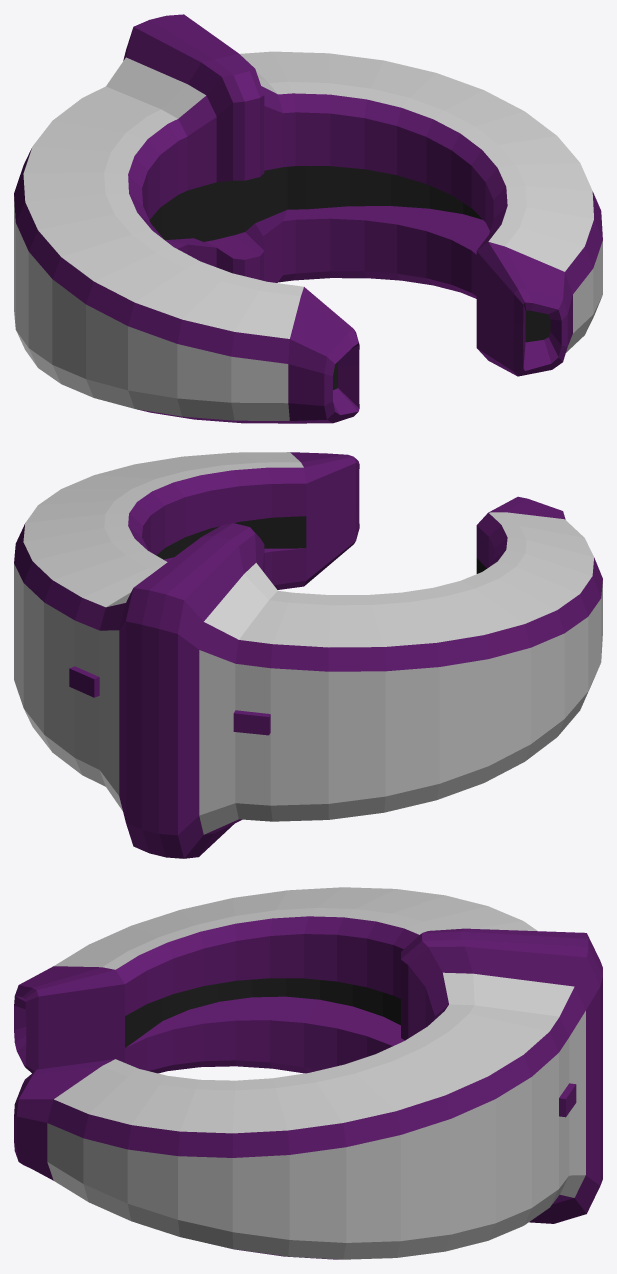
The model's file is Enemy_02.fbx.
The picture shows the model from 3 angles, top to bottom: view 1: azimuth 30°, elevation 25°; view 2: azimuth 150°, elevation 25°; view 3: azimuth 270°, elevation 25°; orthographic projection.
Visible parts, largest first — view 1: Circle.001; view 2: Circle.001; view 3: Circle.001.
Boxes of the visible parts, <box> form: Circle.001: <box>14,14,602,423</box>; Circle.001: <box>14,452,602,858</box>; Circle.001: <box>14,887,602,1259</box>.
Size of the model in its own units: 1560 by 819 by 1566.
